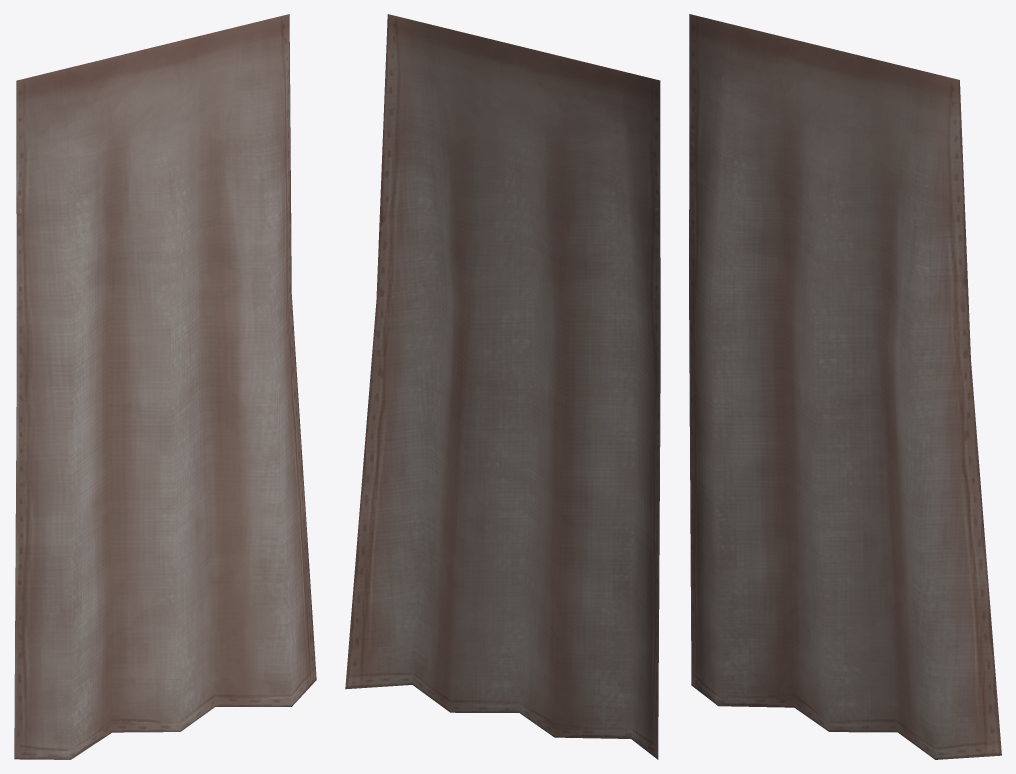
The model's file is curtain_4.FBX.
3 renders of one model, left to right at view 1: azimuth 30°, elevation 25°; view 2: azimuth 150°, elevation 25°; view 3: azimuth 330°, elevation 25°, orthographic.
Visible parts, largest first — view 1: curtain_4; view 2: curtain_4; view 3: curtain_4.
Boxes of the visible parts, <box> form: curtain_4: <box>14,14,316,759</box>; curtain_4: <box>345,14,660,759</box>; curtain_4: <box>689,14,1001,759</box>.
Bounding box in the file's own units: 79.38 × 167 × 10.92.
1 material, 1 textured.
